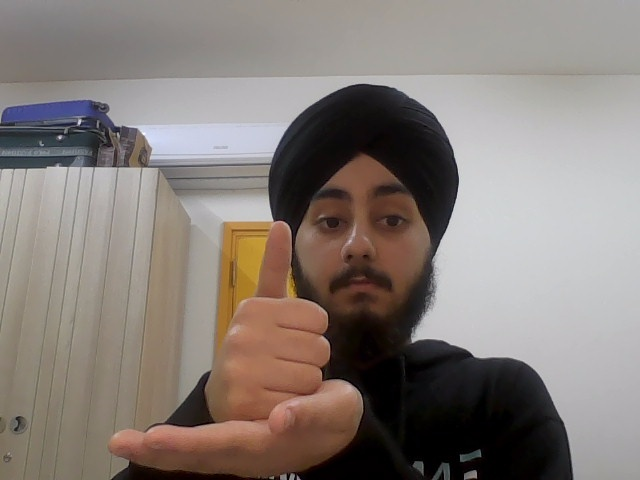Help: (109, 218, 367, 475)
